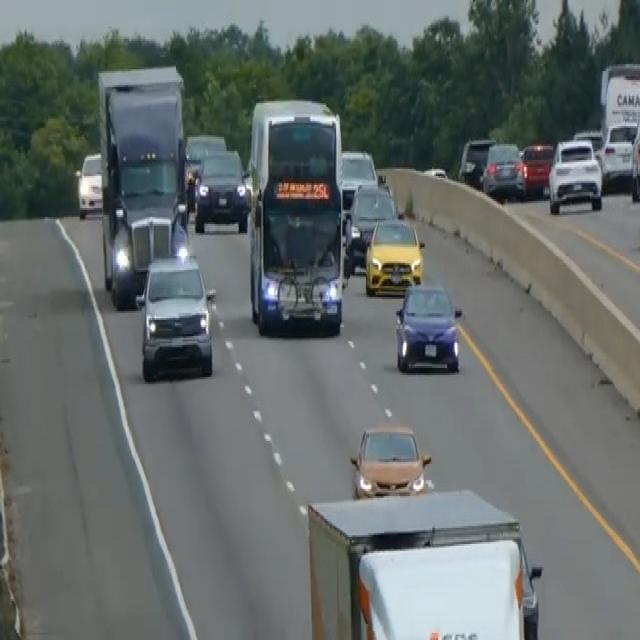bus: (246, 94, 346, 338)
car: (135, 249, 217, 382), (394, 279, 462, 373), (349, 421, 432, 498), (364, 215, 425, 295), (193, 146, 249, 233), (346, 182, 398, 270), (547, 135, 603, 213), (182, 130, 226, 206), (339, 146, 378, 217), (481, 139, 526, 199), (600, 117, 637, 187), (457, 135, 495, 189), (76, 149, 103, 219), (520, 140, 553, 196), (572, 126, 605, 167), (630, 105, 639, 203)
lorry: (95, 62, 189, 306)
truck: (305, 486, 542, 638)
